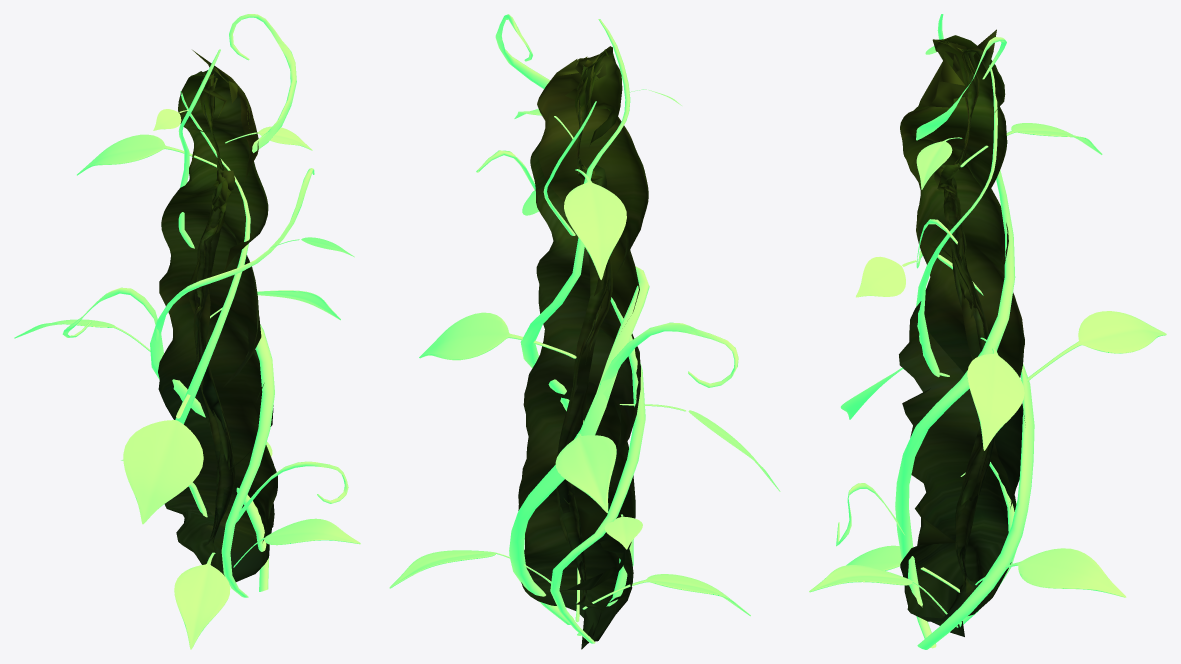
Rendered from segmentsPlante.fbx.
The picture shows the model from 3 angles, left to right: view 1: azimuth 30°, elevation 25°; view 2: azimuth 150°, elevation 25°; view 3: azimuth 270°, elevation 25°; orthographic projection. The views are drawn at different scales.
Visible parts, largest first — view 1: Tronc.025, Feuille.001, Lum.001, PetiteFeuille.006, Lum.003, Lum.002, PetiteFeuille.008, PetiteFeuille.005, Lum.006, PetiteFeuille.009, Lum.004, Lum.005 (+2 smaller); view 2: Tronc.025, Lum.003, Lum.002, PetiteFeuille.008, Lum.001, PetiteFeuille.001, PetiteFeuille.009, Lum.005, PetiteFeuille.004, PetiteFeuille.006, Lum.006, Feuille.002 (+1 smaller); view 3: Tronc.025, Lum.001, Lum.003, PetiteFeuille.009, PetiteFeuille.004, PetiteFeuille.001, Lum.002, Feuille.006, PetiteFeuille.005, PetiteFeuille.006, PetiteFeuille.002, PetiteFeuille.008 (+2 smaller).
Part boxes in pixels (box(x1,y1,x2,y2)): Tronc.025: box(158, 50, 277, 581); Feuille.001: box(123, 394, 203, 524); Lum.001: box(178, 49, 274, 597); PetiteFeuille.006: box(174, 552, 230, 649); Lum.003: box(150, 168, 314, 591); Lum.002: box(175, 91, 250, 517); PetiteFeuille.008: box(77, 134, 216, 175); PetiteFeuille.005: box(233, 518, 360, 567); Lum.006: box(229, 14, 296, 152); PetiteFeuille.009: box(210, 290, 340, 320); Lum.004: box(236, 461, 348, 522); Lum.005: box(62, 287, 158, 341); Tronc.025: box(518, 46, 648, 649); Lum.003: box(476, 150, 649, 624); Lum.002: box(543, 101, 645, 643); PetiteFeuille.008: box(564, 169, 626, 279); Lum.001: box(520, 19, 633, 635); PetiteFeuille.001: box(555, 433, 616, 513); PetiteFeuille.009: box(419, 312, 576, 360); Lum.005: box(596, 322, 738, 398); PetiteFeuille.004: box(389, 550, 551, 588); PetiteFeuille.006: box(582, 574, 750, 616); Lum.006: box(495, 14, 550, 88); Feuille.002: box(604, 514, 642, 549); Tronc.025: box(899, 29, 1025, 636); Lum.001: box(895, 14, 1015, 648); Lum.003: box(916, 219, 1034, 649); PetiteFeuille.009: box(967, 337, 1024, 450); PetiteFeuille.004: box(975, 548, 1126, 597); PetiteFeuille.001: box(1027, 311, 1166, 381); Lum.002: box(916, 65, 1016, 627); Feuille.006: box(856, 256, 916, 297); PetiteFeuille.005: box(809, 565, 947, 614); PetiteFeuille.006: box(846, 545, 959, 592); PetiteFeuille.002: box(916, 137, 962, 189); PetiteFeuille.008: box(960, 123, 1102, 167).
Bounding box in the file's own units: 39.91 × 76.07 × 39.32.
